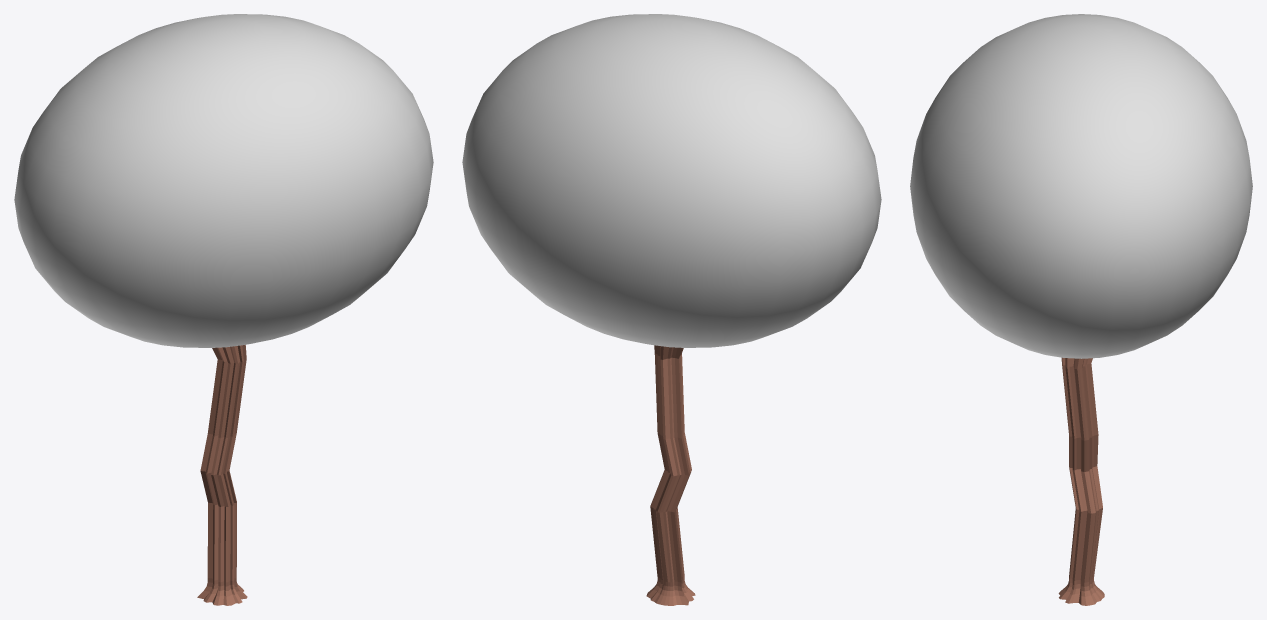
The model's file is arbol_2.fbx.
3 renders of one model, left to right at view 1: azimuth 30°, elevation 25°; view 2: azimuth 150°, elevation 25°; view 3: azimuth 270°, elevation 25°, orthographic.
Visible parts, largest first — view 1: Arbol_2; view 2: Arbol_2; view 3: Arbol_2.
Boxes of the visible parts, x1,y1,x2,y2 form: Arbol_2: (14,14,433,605); Arbol_2: (462,14,881,605); Arbol_2: (910,14,1252,605).
Size of the model in its own units: 416 by 587 by 328.
